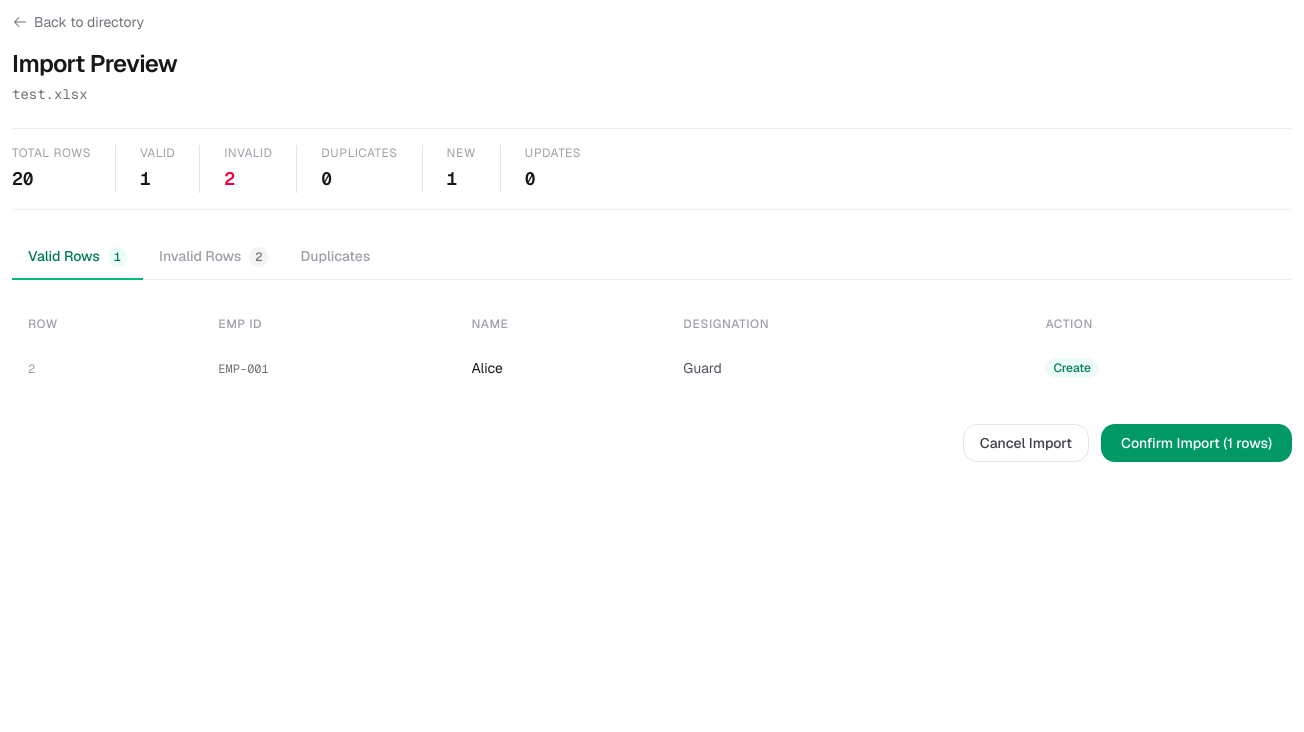
Test case: ImportPreviewClient › invalid rows tab › shows Fix buttons for all invalid rows when there are multiple
The width and height of the screenshot is (1304, 732).
Click the tab "Invalid Rows2".
click(214, 257)  # box [143,234,284,280]
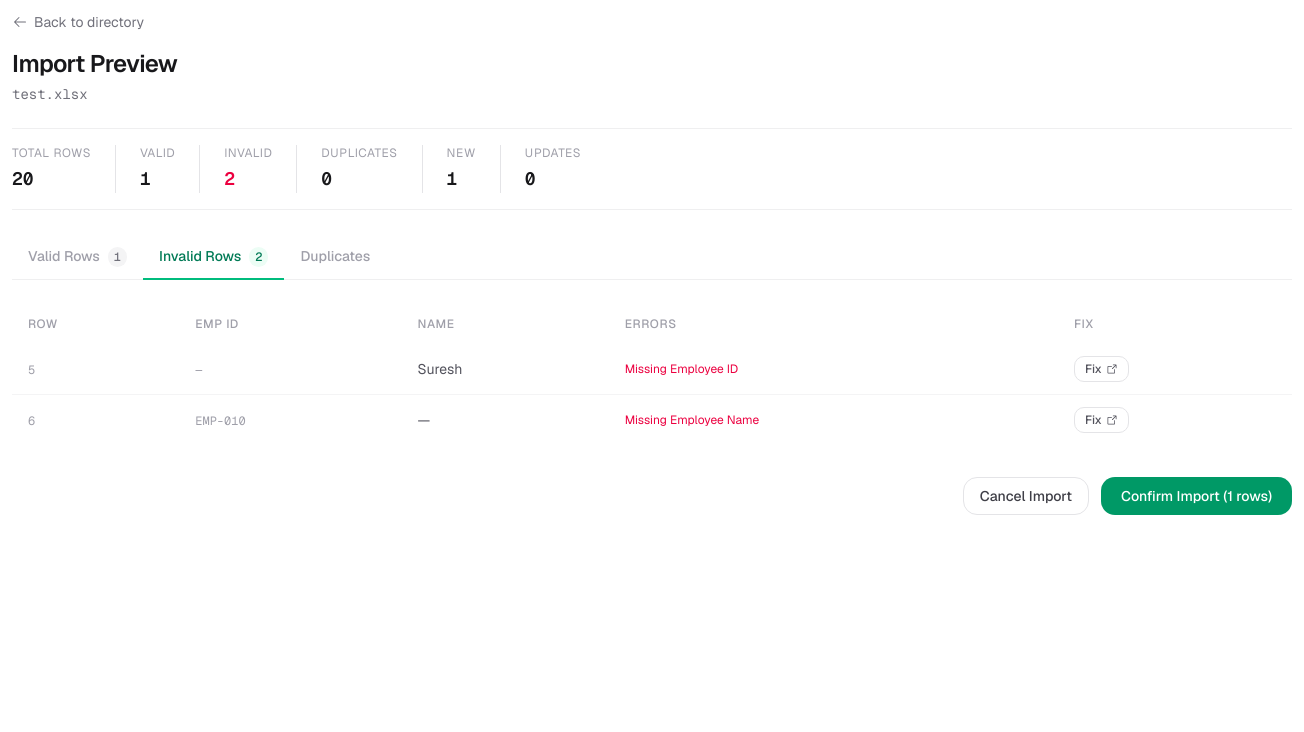
Expected: the number of buttons "Fix" is 2, [1074,356,1129,382]; [1074,407,1129,433]
